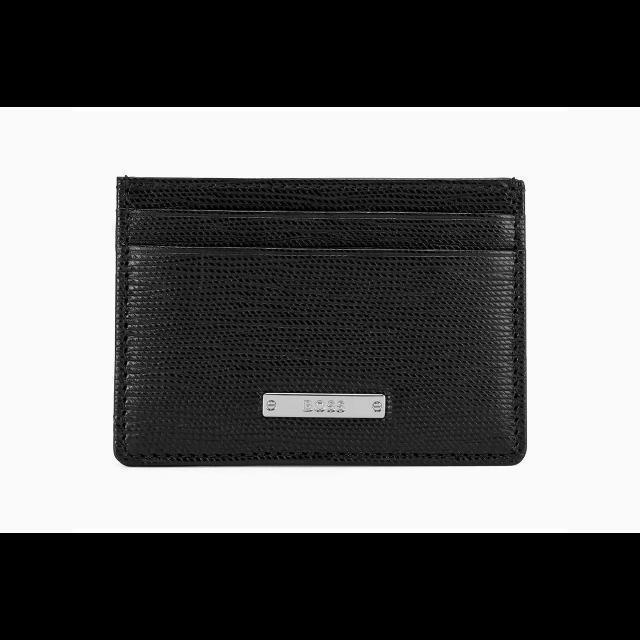wallet: (109, 172, 528, 464)
